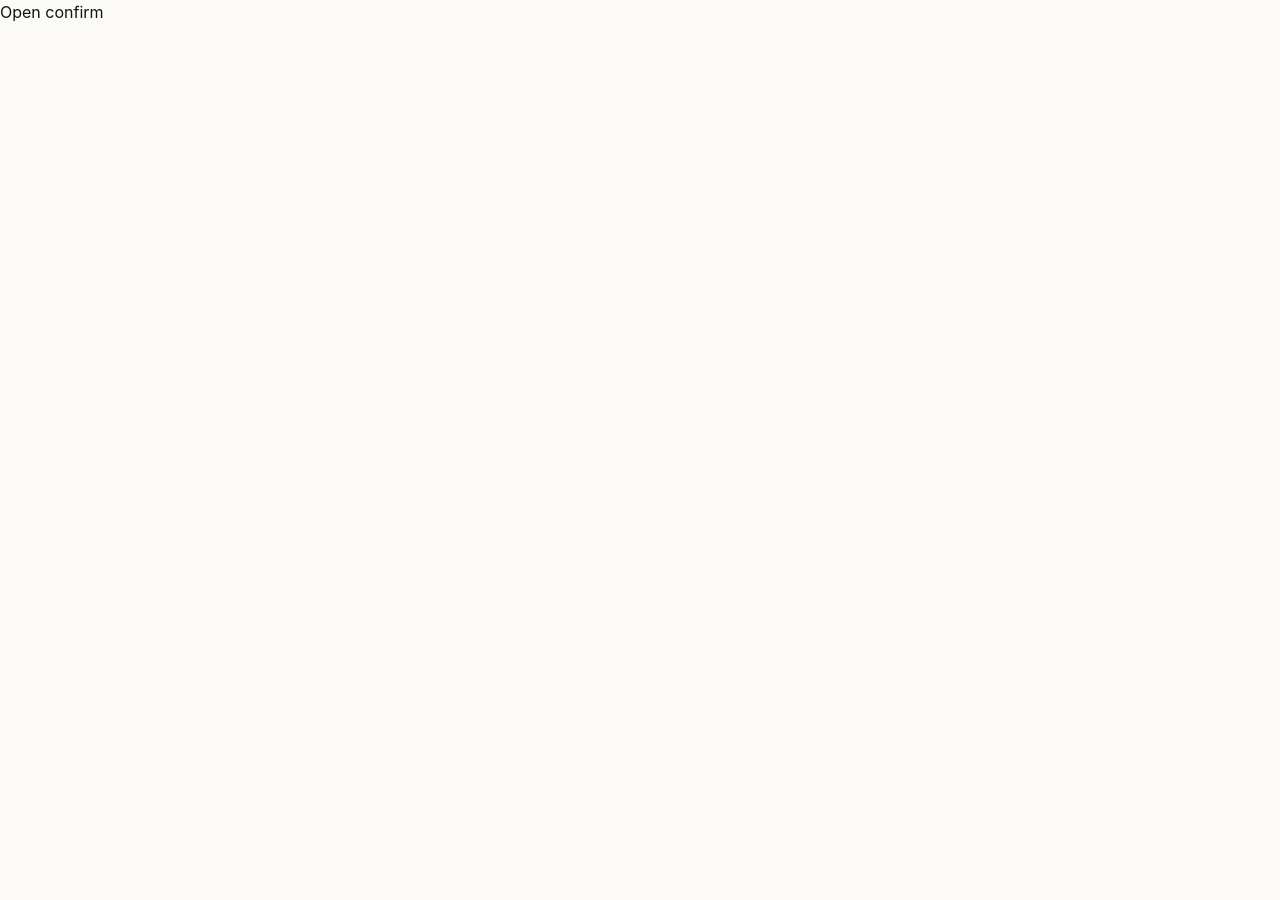
Test case: Dialog keyboard/focus behavior › closes on Escape and exposes a close control with an accessible name
The width and height of the screenshot is (1280, 900).
Click the button "Open confirm" at (52, 12), box [0,0,104,24]
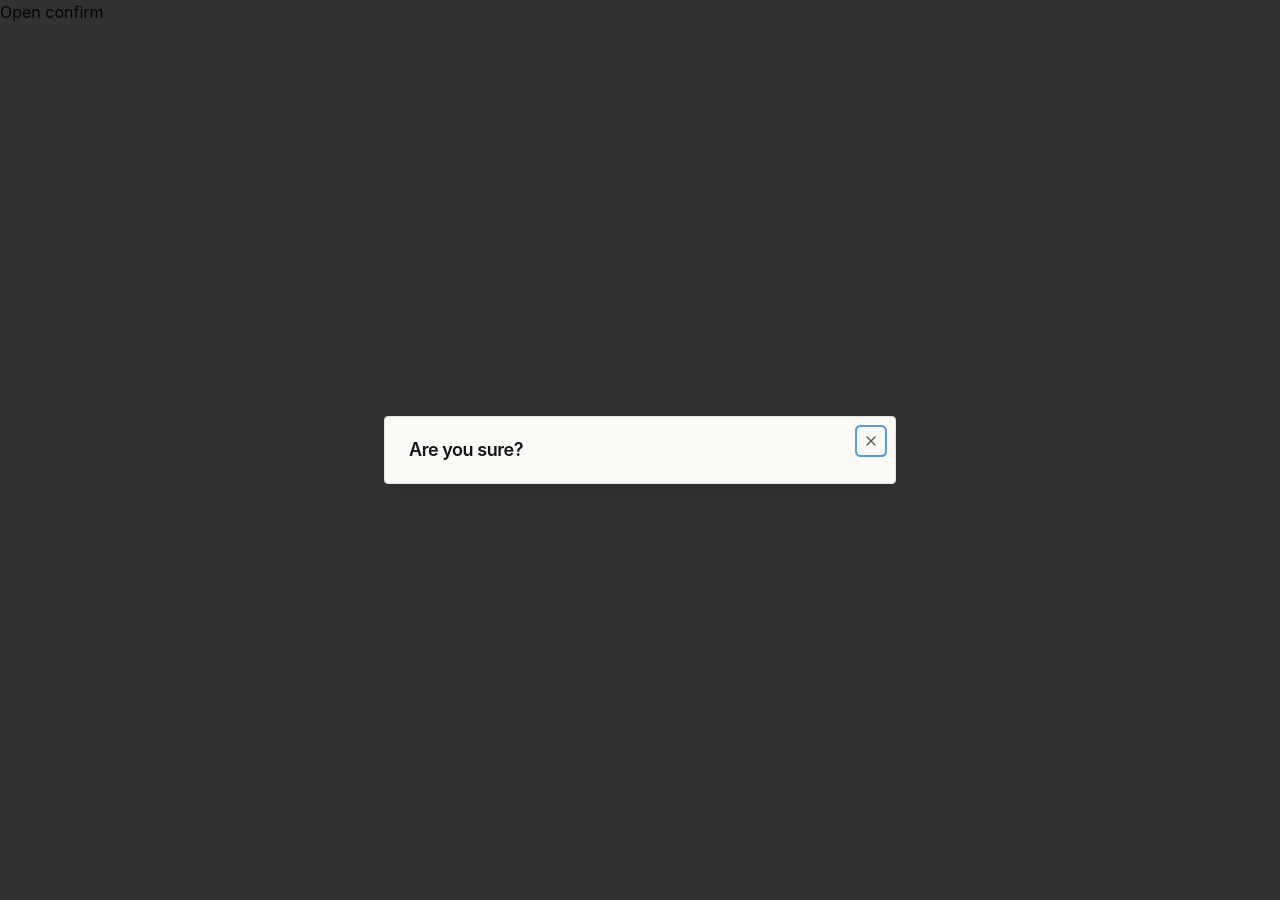
Result: the dialog "Are you sure?" is shown at [384,416,896,484]
Click the button named "Close" at (871, 441), box [859,429,883,453]
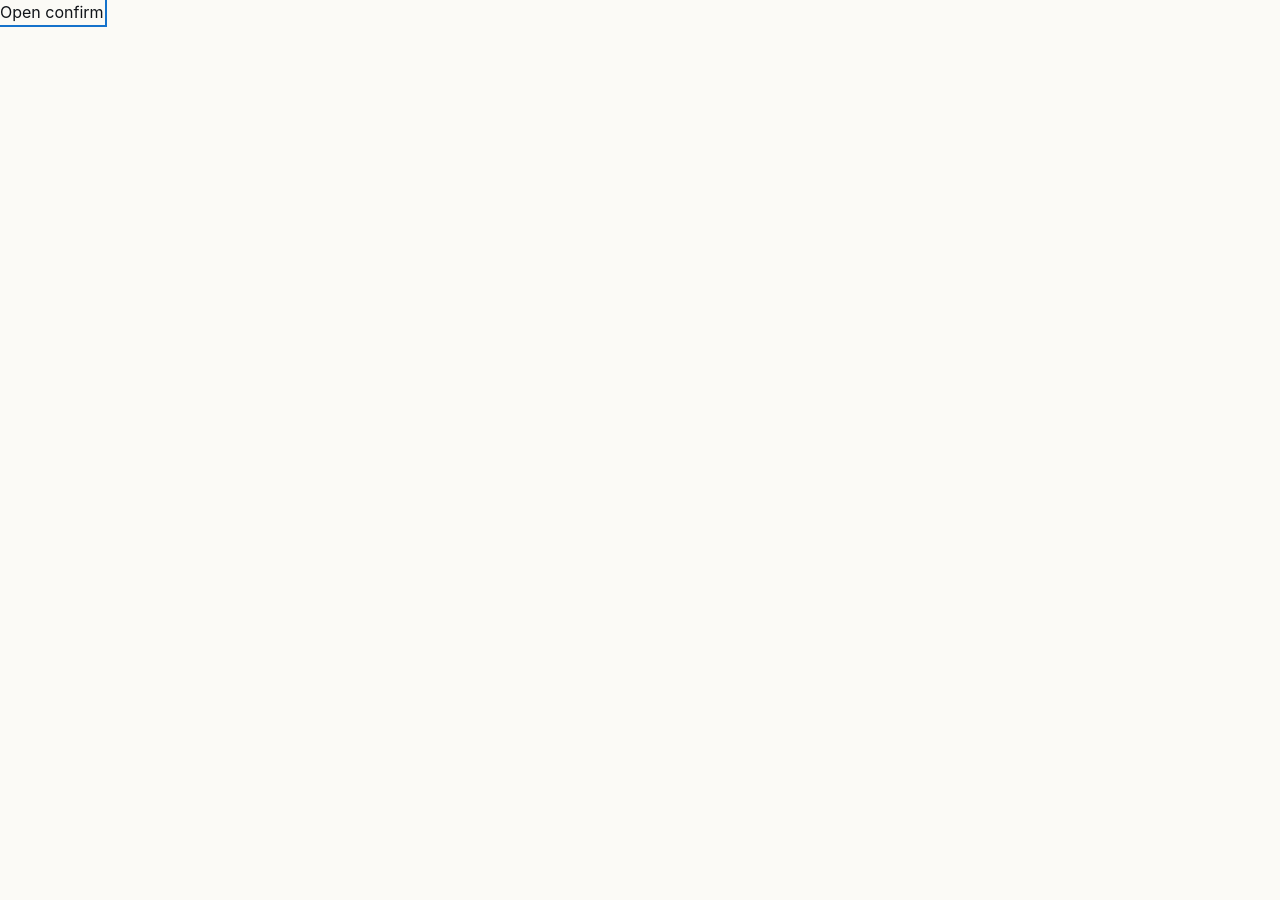
Result: the dialog is gone
